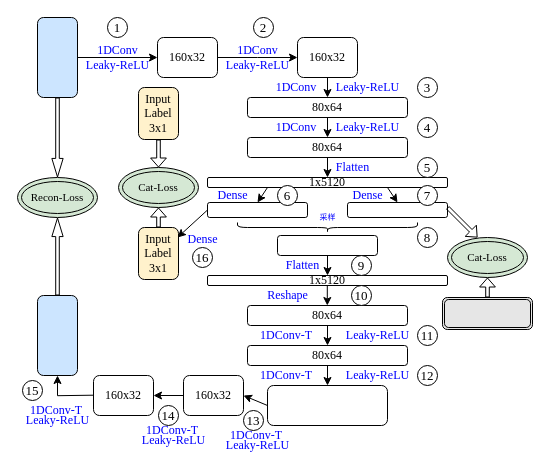
This 550x473 diagram has some shape labels left out. The shapes that lost their labels are listed below. From the top down, each one's box as (x1, y1, x2, y2) in pixels, then its label:
(36, 16, 78, 98): Input Data 320x3
(206, 202, 308, 218): 1x20 z_mean
(346, 202, 448, 218): 1x20 z_log_var
(276, 234, 378, 256): 1x20 lambda
(442, 296, 532, 330): Standard Gaussian
(36, 294, 78, 376): Recon Data 320x3
(266, 384, 388, 426): 160x64
